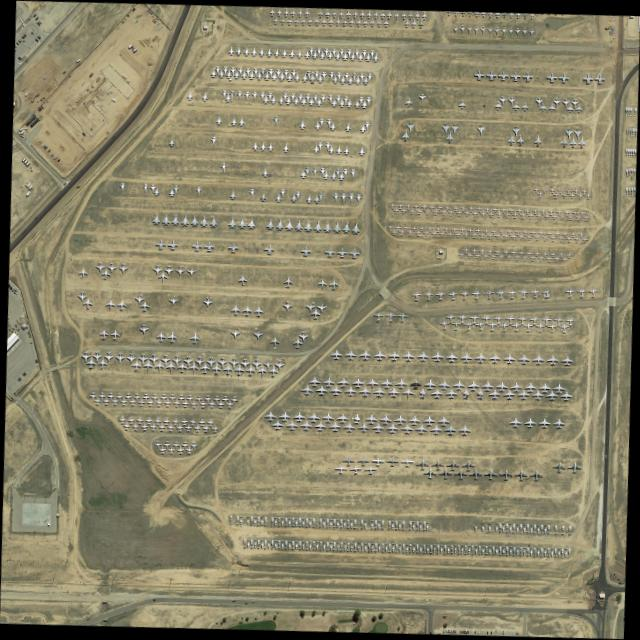plane: (423, 466, 438, 479), (446, 459, 461, 471), (568, 461, 582, 473), (530, 469, 544, 481), (515, 468, 529, 480), (500, 468, 514, 480), (484, 468, 498, 480), (462, 459, 476, 471), (439, 467, 453, 479), (432, 458, 446, 470), (416, 458, 430, 470), (387, 386, 401, 397), (343, 421, 357, 432), (423, 379, 437, 390), (538, 382, 552, 393), (553, 461, 567, 472), (454, 468, 468, 479), (344, 385, 357, 396), (300, 420, 313, 431), (321, 412, 334, 423), (372, 422, 385, 433), (561, 355, 574, 366), (467, 380, 480, 391), (308, 376, 321, 387), (553, 383, 566, 394), (423, 415, 436, 426), (509, 417, 522, 428), (524, 417, 537, 428), (470, 468, 483, 479), (489, 353, 502, 364), (315, 385, 329, 395), (307, 412, 321, 422), (278, 412, 292, 422), (285, 420, 299, 430), (386, 423, 400, 433), (400, 423, 414, 433), (445, 388, 459, 398), (488, 389, 502, 399), (336, 413, 350, 423), (452, 380, 466, 390), (415, 424, 429, 434), (503, 354, 517, 364), (373, 350, 387, 360), (402, 351, 416, 361), (445, 352, 459, 362), (229, 357, 240, 369), (268, 365, 279, 377), (257, 364, 268, 376), (245, 364, 256, 376), (223, 363, 234, 375), (143, 359, 154, 371), (86, 357, 97, 369), (183, 355, 194, 367), (316, 301, 327, 313), (189, 332, 200, 344), (138, 353, 149, 365), (336, 247, 348, 258), (351, 222, 361, 235), (264, 411, 277, 421), (431, 388, 444, 398), (402, 387, 415, 397), (359, 386, 372, 396), (330, 385, 343, 395), (301, 384, 314, 394), (293, 412, 306, 422), (271, 420, 284, 430), (314, 421, 327, 431), (329, 421, 342, 431), (365, 414, 378, 424), (379, 414, 392, 424), (408, 415, 421, 425), (503, 389, 516, 399), (547, 355, 560, 365), (438, 380, 451, 390), (409, 379, 422, 389), (395, 379, 408, 389), (381, 378, 394, 388), (366, 378, 379, 388), (337, 377, 350, 387), (323, 377, 336, 387), (481, 381, 494, 391), (496, 381, 509, 391), (510, 382, 523, 392), (524, 382, 537, 392), (560, 391, 573, 401), (546, 390, 559, 400), (532, 390, 545, 400), (437, 416, 450, 426), (430, 424, 443, 434), (444, 425, 457, 435), (459, 425, 472, 435), (539, 418, 552, 428), (553, 418, 566, 428), (358, 422, 371, 432), (518, 354, 531, 364), (330, 349, 343, 359), (345, 350, 358, 360), (359, 350, 372, 360), (388, 351, 401, 361), (417, 351, 430, 361), (349, 465, 363, 474), (364, 465, 378, 474), (234, 364, 245, 375), (211, 363, 222, 374), (177, 362, 188, 373), (131, 360, 142, 371), (217, 357, 228, 368), (230, 327, 241, 338), (110, 329, 121, 340), (92, 351, 103, 362), (126, 353, 137, 364), (160, 355, 171, 366), (228, 242, 239, 253), (264, 244, 275, 255), (325, 246, 336, 257), (349, 248, 360, 259), (186, 266, 197, 277), (175, 265, 186, 276), (118, 263, 129, 274), (77, 291, 88, 302), (105, 299, 116, 310), (134, 293, 145, 304), (204, 241, 215, 252), (583, 73, 594, 84), (498, 70, 509, 81), (474, 69, 485, 80), (189, 361, 199, 373), (115, 352, 125, 364), (81, 351, 91, 363), (158, 271, 168, 283), (100, 269, 112, 279), (352, 378, 364, 388), (447, 290, 459, 300), (483, 289, 495, 299), (342, 221, 351, 234), (333, 221, 342, 234), (323, 221, 332, 234), (314, 220, 323, 233), (304, 219, 313, 232), (285, 218, 294, 231), (266, 218, 275, 231), (228, 216, 237, 229), (190, 214, 199, 227), (181, 214, 190, 227), (171, 213, 180, 226), (162, 213, 171, 226), (373, 387, 386, 396), (394, 415, 407, 424), (517, 390, 530, 399), (372, 457, 385, 466), (431, 352, 444, 361), (460, 353, 473, 362), (475, 353, 488, 362), (386, 458, 400, 466), (357, 457, 371, 465), (342, 457, 356, 465), (240, 358, 251, 368), (252, 359, 262, 370), (263, 360, 274, 370), (274, 360, 285, 370), (200, 363, 211, 373), (203, 297, 213, 308), (166, 361, 176, 372), (155, 360, 165, 371), (97, 358, 108, 368), (206, 357, 216, 368), (195, 356, 205, 367), (242, 305, 253, 315), (253, 306, 264, 316), (282, 301, 293, 311), (311, 308, 321, 319), (299, 331, 309, 342), (270, 337, 280, 348), (167, 331, 177, 342), (156, 331, 166, 342), (149, 354, 159, 365), (172, 355, 182, 366), (168, 296, 179, 306), (192, 241, 203, 251), (329, 279, 339, 290), (283, 277, 293, 288), (237, 275, 248, 285), (164, 265, 174, 276), (153, 264, 163, 275), (107, 262, 117, 273), (95, 262, 106, 272), (83, 298, 93, 309), (116, 300, 127, 310), (155, 239, 166, 249), (486, 70, 497, 80), (559, 73, 570, 83), (595, 74, 606, 84), (475, 320, 486, 330), (469, 314, 480, 324), (499, 321, 510, 331), (495, 289, 506, 299), (530, 288, 541, 298), (247, 217, 256, 229), (200, 215, 209, 227), (152, 213, 161, 225), (512, 126, 521, 138), (533, 355, 545, 364), (295, 219, 303, 232), (238, 216, 246, 229), (210, 215, 218, 228), (451, 123, 459, 136), (335, 465, 348, 473), (401, 458, 414, 466), (306, 302, 316, 312), (293, 338, 303, 348), (139, 324, 149, 334), (99, 329, 109, 339), (104, 352, 114, 362), (231, 305, 241, 315), (140, 301, 150, 311), (301, 246, 311, 256), (317, 279, 327, 289), (78, 268, 88, 278), (168, 240, 178, 250), (511, 71, 521, 81), (523, 71, 533, 81), (547, 72, 557, 82), (577, 287, 587, 297), (505, 315, 516, 324), (493, 315, 504, 324), (481, 315, 492, 324), (457, 314, 468, 323), (463, 321, 474, 330), (439, 320, 450, 329), (385, 312, 396, 321), (373, 312, 384, 321), (511, 322, 522, 331), (517, 315, 528, 324), (411, 291, 422, 300), (423, 291, 434, 300), (435, 291, 446, 300), (518, 289, 529, 298), (565, 288, 576, 297), (588, 287, 599, 296), (565, 317, 576, 326), (541, 316, 552, 325), (529, 316, 540, 325), (523, 322, 534, 331), (276, 219, 284, 231), (534, 135, 542, 147), (565, 128, 573, 140), (569, 135, 577, 147), (574, 128, 582, 140), (578, 136, 586, 148), (508, 133, 516, 145), (477, 124, 485, 136), (446, 131, 454, 143), (407, 122, 415, 134), (402, 130, 410, 142), (442, 123, 450, 135), (561, 135, 568, 148), (253, 330, 263, 339), (460, 290, 470, 299), (472, 290, 482, 299), (507, 289, 517, 298), (548, 323, 558, 332), (315, 47, 323, 58), (195, 186, 203, 197), (487, 322, 498, 330), (451, 321, 462, 329), (397, 313, 408, 321), (559, 324, 570, 332), (553, 317, 564, 325), (535, 323, 546, 331), (517, 134, 524, 146), (168, 394, 177, 403), (189, 417, 198, 426), (181, 399, 190, 408), (566, 104, 575, 113), (326, 50, 334, 60), (353, 49, 361, 59), (372, 52, 380, 62), (361, 99, 369, 109), (338, 98, 346, 108), (330, 97, 338, 107), (300, 96, 308, 106), (248, 70, 256, 80), (286, 72, 294, 82), (243, 91, 251, 101), (210, 136, 218, 146), (142, 184, 150, 194), (168, 187, 176, 197), (201, 92, 209, 102), (230, 116, 238, 126), (335, 145, 343, 155), (535, 97, 543, 107), (521, 102, 529, 112), (494, 101, 502, 111), (493, 26, 501, 36), (338, 9, 346, 19), (446, 314, 456, 322), (542, 289, 552, 297), (296, 49, 303, 60), (235, 45, 242, 56), (275, 69, 282, 80), (262, 167, 269, 178), (236, 90, 243, 101), (229, 90, 236, 101), (225, 92, 232, 103), (348, 193, 355, 204), (355, 193, 362, 204), (334, 51, 342, 60), (342, 96, 350, 105), (304, 94, 312, 103), (278, 72, 286, 81), (262, 95, 270, 104), (142, 393, 150, 402), (207, 418, 215, 427), (163, 441, 171, 450), (172, 441, 180, 450), (181, 441, 189, 450), (98, 392, 106, 401), (195, 395, 203, 404), (213, 395, 221, 404), (145, 416, 153, 425), (330, 171, 338, 180), (229, 191, 237, 200), (215, 116, 223, 125), (359, 124, 367, 133), (571, 99, 579, 108), (553, 98, 561, 107), (549, 103, 557, 112), (499, 96, 507, 105), (400, 11, 408, 20), (379, 10, 387, 19), (372, 11, 380, 20), (365, 10, 373, 19), (344, 10, 352, 19), (281, 48, 288, 58), (338, 48, 345, 58), (331, 48, 338, 58), (323, 48, 330, 58), (319, 50, 326, 60), (308, 47, 315, 57), (304, 49, 311, 59), (289, 49, 296, 59), (274, 48, 281, 58), (266, 47, 273, 57), (258, 47, 265, 57), (243, 46, 250, 56), (228, 46, 235, 56), (210, 68, 217, 78), (226, 69, 233, 79), (342, 51, 349, 61), (346, 49, 353, 59), (369, 50, 376, 60), (365, 52, 372, 62), (361, 49, 368, 59), (357, 52, 364, 62), (233, 69, 240, 79), (241, 70, 248, 80), (367, 73, 374, 83), (346, 98, 353, 108), (320, 94, 327, 104), (316, 97, 323, 107), (308, 96, 315, 106), (297, 93, 304, 103), (293, 96, 300, 106), (290, 93, 297, 103), (278, 95, 285, 105), (270, 95, 277, 105), (355, 75, 362, 85), (253, 68, 260, 78), (256, 70, 263, 80), (264, 70, 271, 80), (271, 71, 278, 81), (283, 69, 290, 79), (321, 71, 328, 81), (328, 71, 335, 81), (332, 74, 339, 84), (336, 72, 343, 82), (339, 74, 346, 84), (347, 75, 354, 85), (259, 92, 266, 102), (220, 163, 227, 173), (350, 169, 357, 179), (338, 171, 345, 181), (319, 167, 326, 177), (312, 167, 319, 177), (304, 167, 311, 177), (300, 169, 307, 179), (119, 183, 126, 193), (150, 184, 157, 194), (153, 187, 160, 197), (172, 185, 179, 195), (249, 188, 256, 198), (275, 193, 282, 203), (252, 141, 259, 151), (260, 141, 267, 151), (267, 142, 274, 152), (282, 143, 289, 153), (221, 90, 228, 100), (187, 91, 194, 101), (238, 117, 245, 127), (273, 116, 280, 126), (299, 120, 306, 130), (364, 121, 371, 131), (330, 121, 337, 131), (345, 122, 352, 132), (324, 142, 331, 152), (317, 142, 324, 152), (313, 144, 320, 154), (295, 191, 302, 201), (306, 194, 313, 204), (317, 192, 324, 202), (340, 193, 347, 203), (563, 98, 570, 108), (269, 7, 276, 17), (514, 27, 521, 37), (487, 25, 494, 35), (307, 16, 314, 26), (393, 10, 400, 20), (382, 18, 389, 28), (328, 17, 335, 27), (223, 66, 229, 77), (268, 68, 274, 79), (107, 393, 115, 401), (160, 394, 168, 402), (211, 424, 219, 432), (176, 423, 184, 431), (167, 423, 175, 431), (158, 423, 166, 431), (132, 422, 140, 430), (123, 422, 131, 430), (154, 441, 162, 449), (190, 442, 198, 450), (185, 446, 193, 454), (177, 446, 185, 454), (159, 445, 167, 453), (198, 418, 206, 426), (186, 395, 194, 403), (204, 395, 212, 403), (222, 396, 230, 404), (226, 400, 234, 408), (217, 400, 225, 408), (208, 400, 216, 408), (199, 400, 207, 408), (190, 400, 198, 408), (173, 399, 181, 407), (164, 399, 172, 407), (155, 398, 163, 406), (146, 398, 154, 406), (138, 398, 146, 406), (129, 397, 137, 405), (120, 397, 128, 405), (136, 416, 144, 424), (154, 417, 162, 425), (89, 392, 97, 400), (251, 47, 258, 56), (230, 67, 237, 76), (350, 52, 357, 61), (362, 76, 369, 85), (365, 97, 372, 106), (354, 99, 361, 108), (335, 95, 342, 104), (312, 94, 319, 103), (285, 96, 292, 105), (282, 93, 289, 102), (267, 92, 274, 101), (359, 73, 366, 82), (245, 68, 252, 77), (351, 73, 358, 82), (294, 73, 301, 82), (301, 73, 308, 82), (313, 71, 320, 80), (317, 74, 324, 83), (134, 393, 141, 402), (172, 417, 179, 426), (119, 415, 126, 424), (342, 169, 349, 178), (168, 138, 175, 147), (260, 192, 267, 201), (326, 119, 333, 128), (358, 147, 365, 156), (343, 146, 350, 155), (328, 145, 335, 154), (290, 194, 297, 203), (576, 104, 583, 113), (540, 103, 547, 112), (513, 102, 520, 111), (508, 96, 515, 105), (459, 100, 466, 109), (419, 93, 426, 102), (405, 98, 412, 107), (290, 8, 297, 17), (279, 16, 286, 25), (404, 19, 411, 28), (466, 25, 473, 34), (459, 25, 466, 34), (452, 25, 459, 34), (386, 10, 393, 19), (359, 10, 366, 19), (324, 9, 331, 18), (369, 18, 376, 27), (355, 18, 362, 27), (334, 17, 341, 26), (312, 49, 318, 59), (215, 66, 221, 76), (238, 67, 244, 77), (328, 95, 334, 105), (260, 68, 266, 78), (306, 70, 312, 80), (310, 73, 316, 83), (344, 72, 350, 82), (252, 91, 258, 101), (323, 170, 329, 180), (319, 118, 325, 128), (333, 193, 339, 203), (294, 16, 300, 26), (283, 7, 289, 17), (418, 19, 424, 29), (508, 26, 514, 36), (501, 26, 507, 36), (480, 25, 486, 35), (473, 25, 479, 35), (522, 27, 528, 37), (321, 17, 327, 27), (116, 393, 123, 401), (125, 393, 132, 401), (151, 394, 158, 402), (194, 424, 201, 432), (185, 424, 192, 432), (150, 423, 157, 431), (141, 423, 149, 430), (168, 446, 175, 454), (103, 397, 110, 405), (94, 397, 101, 405), (231, 396, 238, 404), (112, 397, 119, 405), (128, 416, 135, 424), (163, 418, 171, 425), (552, 192, 560, 199), (487, 211, 495, 218), (317, 9, 324, 17), (553, 256, 561, 263), (219, 69, 225, 78), (358, 97, 364, 106), (291, 70, 297, 79), (335, 169, 341, 178), (280, 189, 286, 198), (315, 121, 321, 130), (314, 195, 320, 204), (529, 28, 535, 37), (297, 8, 303, 17), (287, 16, 293, 25), (273, 16, 279, 25), (408, 11, 414, 20), (411, 19, 417, 28), (421, 11, 427, 20), (304, 8, 310, 17), (314, 17, 320, 26), (332, 9, 338, 18), (376, 18, 382, 27), (363, 18, 369, 27), (349, 18, 355, 27), (342, 18, 348, 27), (178, 395, 185, 402), (203, 425, 210, 432), (181, 418, 188, 425), (549, 187, 556, 194), (585, 193, 592, 200), (579, 210, 586, 217), (567, 214, 574, 221), (416, 208, 423, 215), (387, 224, 394, 231), (399, 229, 406, 236), (508, 207, 515, 214), (496, 211, 503, 218), (482, 228, 489, 235), (526, 234, 533, 241), (538, 230, 545, 237), (515, 208, 523, 214), (352, 10, 358, 18), (301, 17, 306, 26), (415, 11, 420, 20), (533, 187, 540, 193), (541, 187, 548, 193), (557, 188, 564, 194), (561, 192, 568, 198), (569, 193, 576, 199), (573, 189, 580, 195), (576, 193, 583, 199), (581, 189, 588, 195), (583, 215, 590, 221), (575, 215, 582, 221), (563, 210, 570, 216), (559, 214, 566, 220), (432, 209, 439, 215), (428, 205, 435, 211), (424, 209, 431, 215), (421, 204, 428, 210), (408, 208, 415, 214), (405, 204, 412, 210), (400, 208, 407, 214), (389, 203, 396, 209), (392, 208, 399, 214), (395, 225, 402, 231), (403, 225, 410, 231), (407, 230, 414, 236), (411, 226, 418, 232), (415, 230, 422, 236), (419, 226, 426, 232), (427, 226, 434, 232), (431, 231, 438, 237), (436, 205, 443, 211), (444, 205, 451, 211), (551, 214, 558, 220), (448, 210, 455, 216), (543, 214, 550, 220), (535, 213, 542, 219), (532, 208, 539, 214), (527, 213, 534, 219), (512, 212, 519, 218), (504, 212, 511, 218), (500, 207, 507, 213), (492, 207, 499, 213), (484, 207, 491, 213), (480, 211, 487, 217), (476, 206, 483, 212), (472, 211, 479, 217), (468, 206, 475, 212), (464, 210, 471, 216), (460, 206, 467, 212), (456, 210, 463, 216), (439, 231, 446, 237), (451, 227, 458, 233), (534, 251, 541, 257), (570, 232, 577, 238), (578, 232, 585, 238), (582, 237, 589, 243), (566, 252, 573, 258), (562, 257, 569, 263), (558, 252, 565, 258), (550, 252, 557, 258), (542, 251, 549, 257), (537, 256, 544, 262), (529, 255, 536, 261), (526, 251, 533, 257), (518, 250, 525, 256), (510, 250, 517, 256), (506, 254, 513, 260), (498, 254, 505, 260), (494, 250, 501, 256), (490, 254, 497, 260), (486, 249, 493, 255), (482, 253, 489, 259), (566, 236, 573, 242), (562, 231, 569, 237), (558, 236, 565, 242), (554, 231, 561, 237), (467, 228, 474, 234), (486, 233, 493, 239), (494, 233, 501, 239), (502, 233, 509, 239), (506, 229, 513, 235), (510, 234, 517, 240), (518, 234, 525, 240), (522, 230, 529, 236), (530, 230, 537, 236), (534, 235, 541, 241), (542, 235, 549, 241), (546, 231, 553, 237), (478, 249, 485, 255), (474, 253, 481, 259), (471, 248, 478, 254), (466, 253, 473, 259), (462, 248, 469, 254), (458, 252, 465, 258), (523, 209, 531, 214), (572, 210, 578, 216), (441, 210, 447, 216), (413, 204, 419, 210), (397, 203, 403, 209), (548, 209, 554, 215), (540, 209, 546, 215), (520, 213, 526, 219), (443, 227, 449, 233), (574, 236, 580, 242), (546, 256, 552, 262), (522, 255, 528, 261), (503, 250, 509, 256), (455, 232, 461, 238), (463, 232, 469, 238), (471, 232, 477, 238), (475, 228, 481, 234), (499, 229, 505, 235), (537, 192, 544, 197), (565, 189, 572, 194), (391, 230, 398, 235), (423, 231, 430, 236), (435, 227, 442, 232), (452, 206, 459, 211), (514, 255, 521, 260), (459, 228, 466, 233), (550, 236, 557, 241), (556, 210, 562, 215), (447, 232, 453, 237), (479, 233, 485, 238), (491, 229, 497, 234), (515, 230, 521, 235)
small-vehicle: (76, 58, 81, 63), (37, 21, 41, 26), (17, 378, 21, 382), (39, 20, 43, 24), (35, 17, 39, 21), (33, 14, 37, 18), (132, 7, 136, 11), (37, 36, 41, 40), (35, 38, 39, 42), (22, 373, 26, 377), (57, 159, 61, 163), (54, 156, 58, 160), (51, 153, 55, 157), (44, 146, 48, 150), (41, 143, 45, 147), (38, 139, 42, 143), (40, 105, 44, 109), (25, 92, 29, 96), (46, 99, 50, 103), (39, 106, 42, 111), (37, 98, 40, 103), (127, 13, 130, 17), (465, 631, 468, 635), (30, 32, 34, 35), (23, 372, 27, 375), (48, 149, 51, 153), (18, 57, 21, 61), (19, 55, 22, 59), (16, 42, 19, 46), (18, 40, 21, 44), (23, 39, 26, 43), (19, 377, 22, 380), (24, 34, 27, 37), (53, 155, 56, 158), (43, 145, 46, 148), (22, 36, 25, 39), (23, 35, 26, 38), (605, 455, 607, 459), (213, 20, 215, 24), (232, 600, 236, 602), (503, 631, 505, 635), (490, 631, 492, 635), (486, 631, 488, 635), (478, 631, 480, 635), (464, 630, 466, 634), (462, 630, 464, 634), (460, 630, 462, 634), (455, 630, 457, 634), (38, 108, 40, 112), (24, 128, 28, 130), (453, 630, 455, 634), (451, 630, 453, 634), (443, 629, 445, 633), (153, 599, 156, 601), (245, 603, 248, 605), (252, 600, 255, 602), (597, 600, 599, 603), (516, 632, 518, 635), (474, 631, 476, 634), (467, 631, 469, 634), (449, 630, 451, 633), (448, 630, 450, 633), (446, 630, 448, 633)
